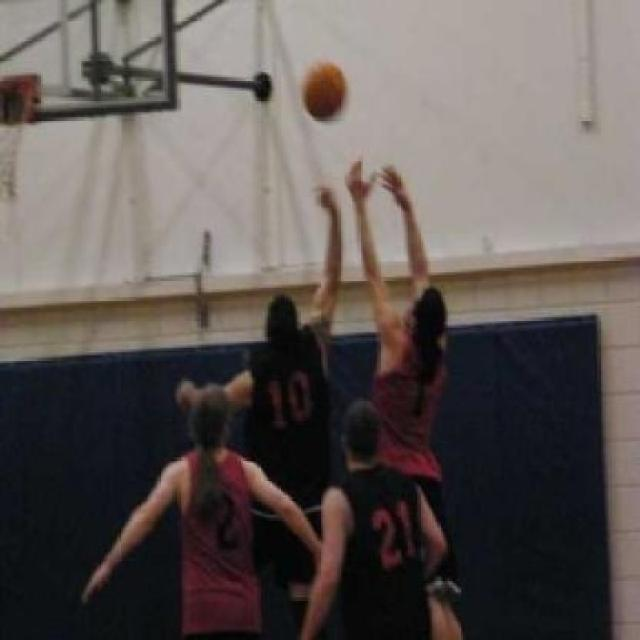basketball: (291, 54, 357, 128)
